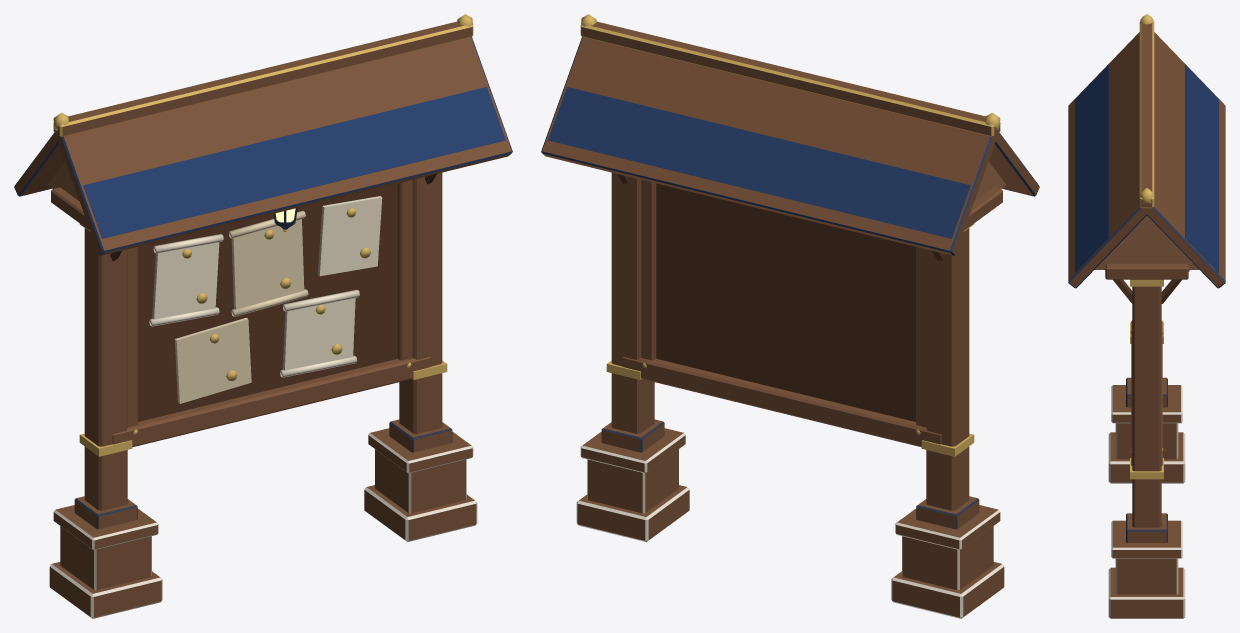
The model's file is prop_town_bulletin.glb.
3 views of the same model, side by side, from view 1: azimuth 30°, elevation 25°; view 2: azimuth 150°, elevation 25°; view 3: azimuth 270°, elevation 25° (orthographic). The views are drawn at different scales.
Visible parts, largest first — view 1: prop_town_bulletin; view 2: prop_town_bulletin; view 3: prop_town_bulletin.
Part boxes in pixels (x1=…): prop_town_bulletin: x1=14, y1=14, x2=512, y2=618; prop_town_bulletin: x1=541, y1=14, x2=1039, y2=618; prop_town_bulletin: x1=1068, y1=14, x2=1225, y2=618.
Bounding box in the file's own units: 2.44 × 2.76 × 0.9047.
